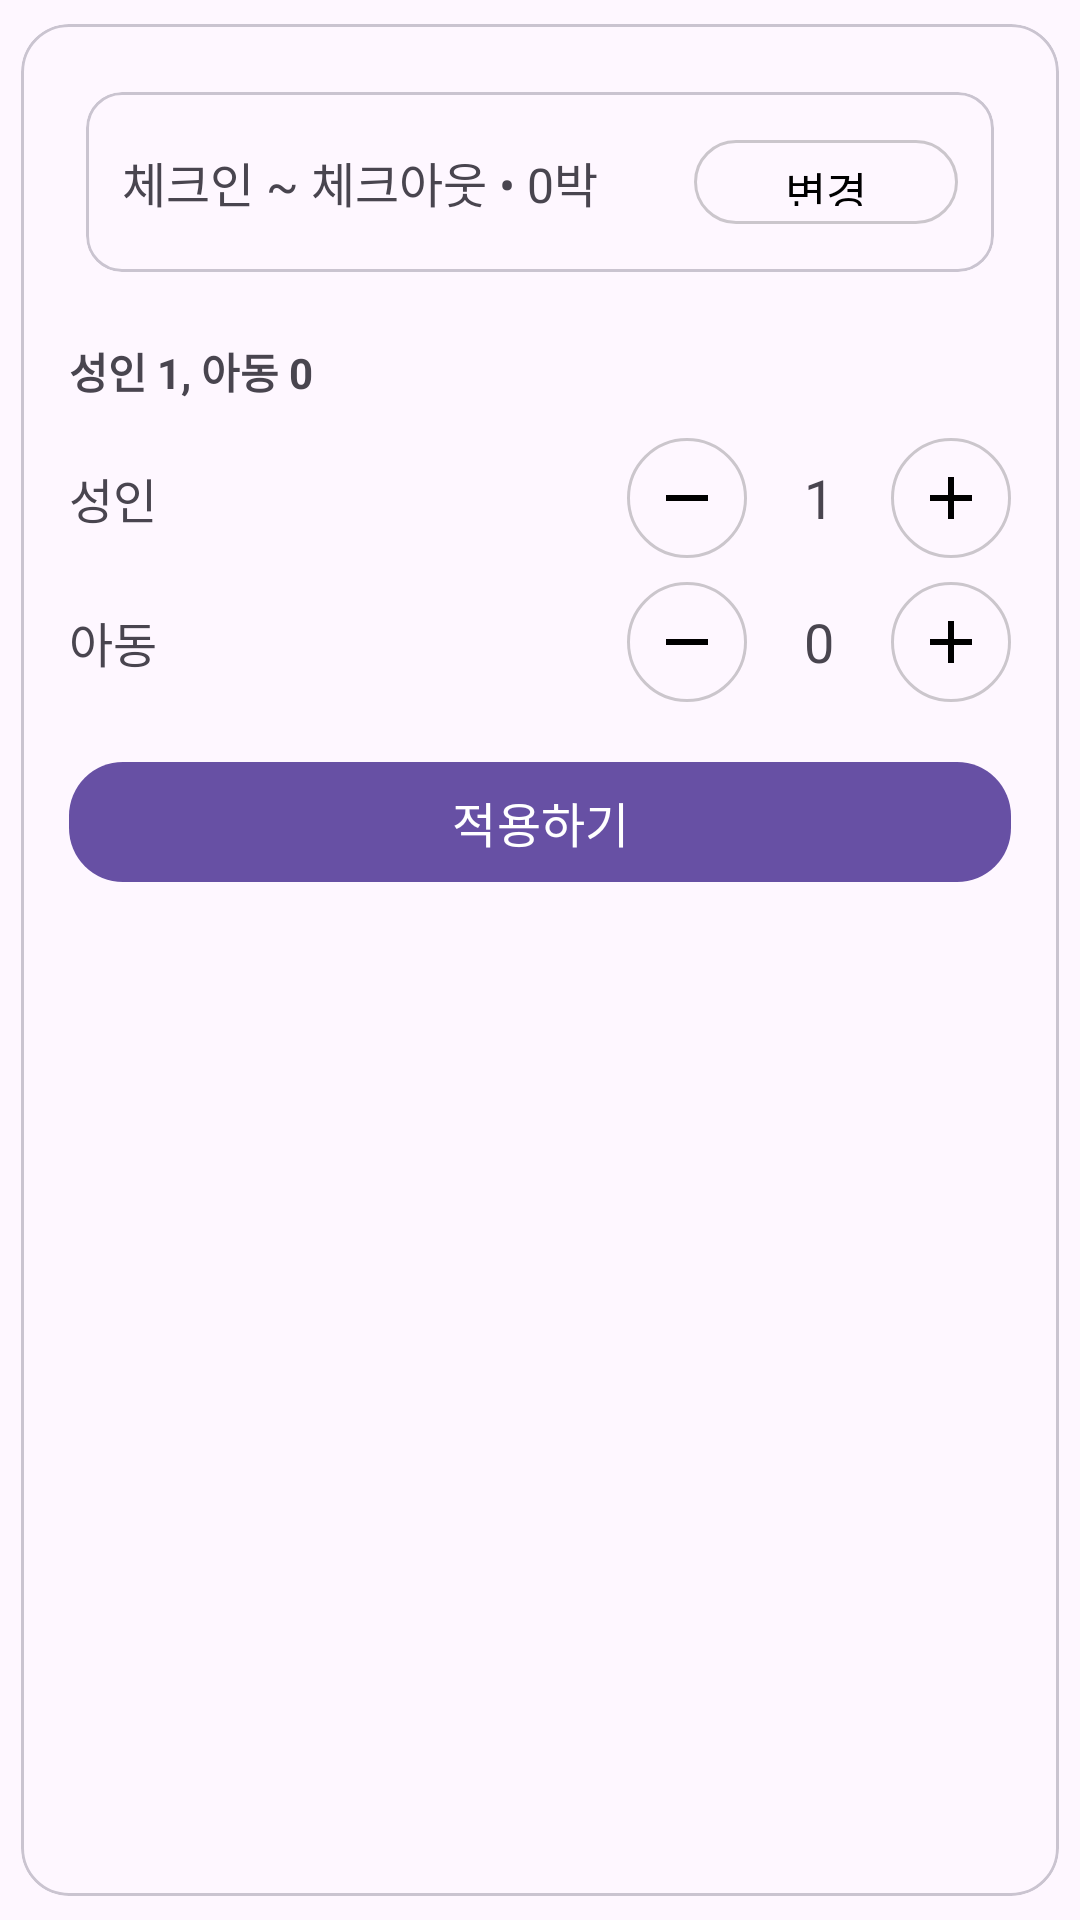

Named icons in this screenshot (1080w x 1920h) and their centers, point (x, y):
성인 추가: point (951, 498)
아동 추가: point (951, 642)
